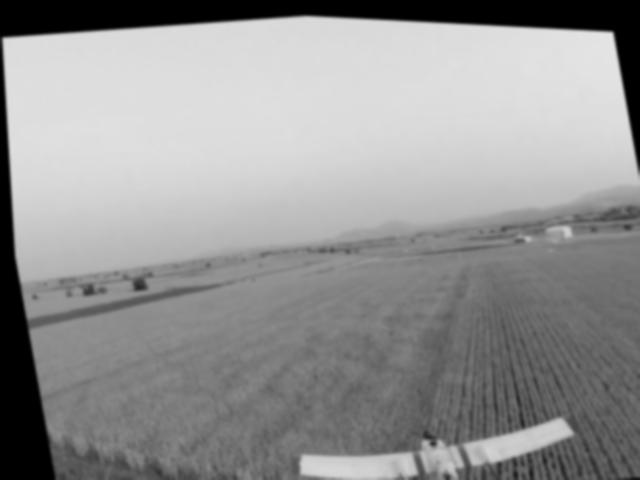hedef: (261, 358, 595, 480)
